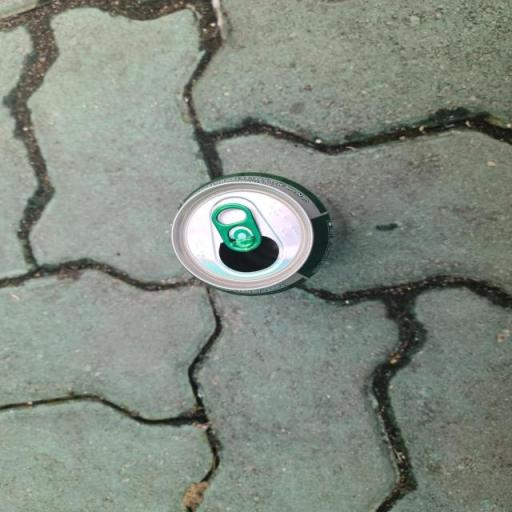metal: (104, 148, 402, 318)
